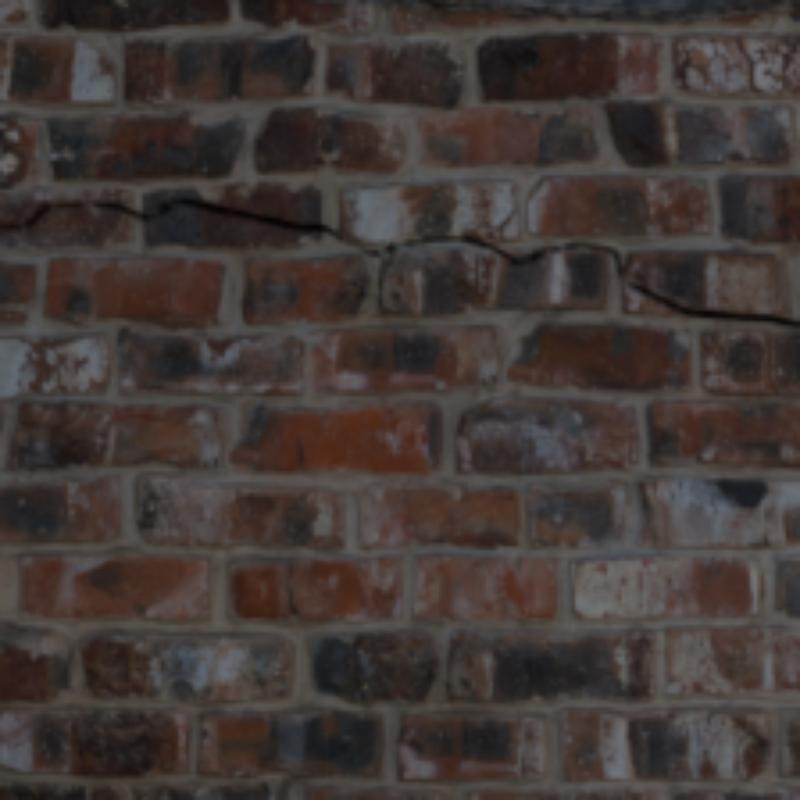pothole: (0, 196, 796, 329)
